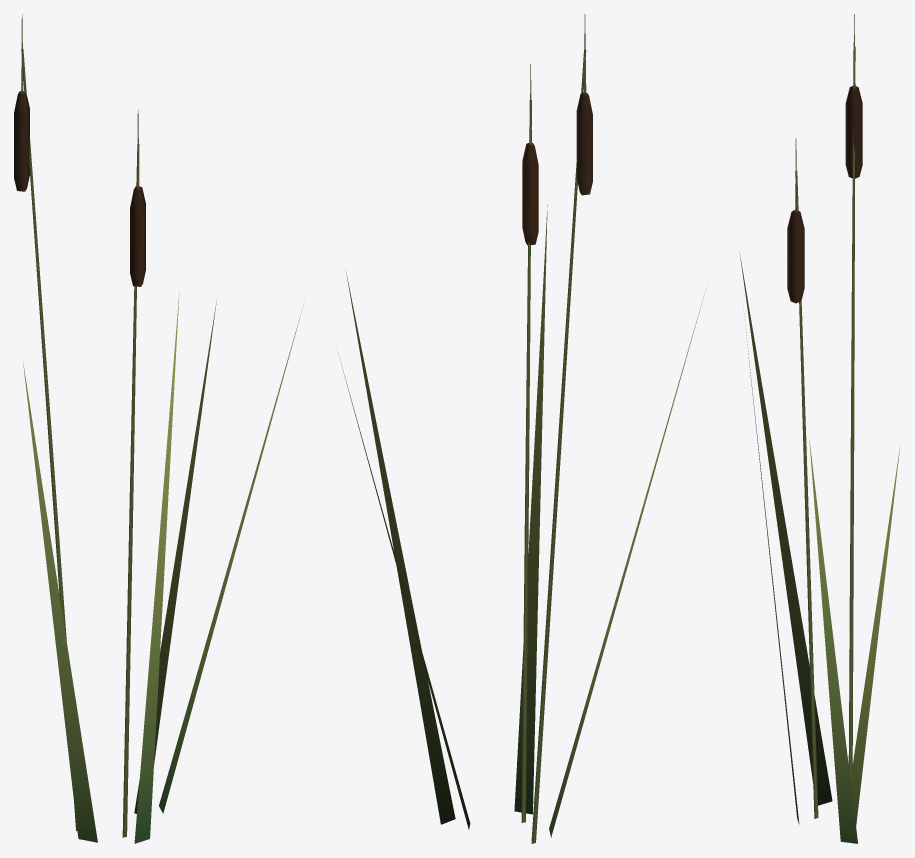
The model's file is reeds-cattail-a.lod2.glb.
The picture shows the model from 3 angles, left to right: view 1: azimuth 30°, elevation 25°; view 2: azimuth 150°, elevation 25°; view 3: azimuth 270°, elevation 25°; orthographic projection. The views are drawn at different scales.
Parts seen in each view (by area): view 1: reeds-cattail-a.lod2; view 2: reeds-cattail-a.lod2; view 3: reeds-cattail-a.lod2.
Boxes of the visible parts, x1,y1,x2,y2 form: reeds-cattail-a.lod2: [14, 14, 302, 843]; reeds-cattail-a.lod2: [338, 14, 706, 843]; reeds-cattail-a.lod2: [739, 14, 900, 843].
Size of the model in its own units: 0.7653 by 1.89 by 0.36.
